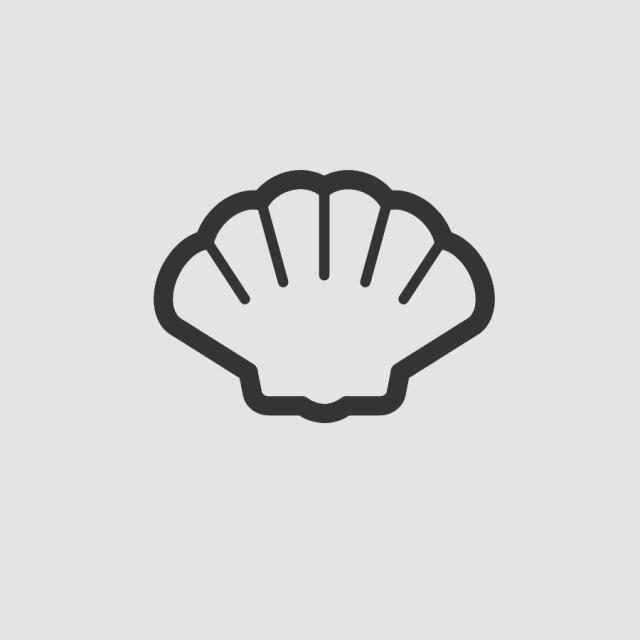shell: (147, 163, 503, 432)
